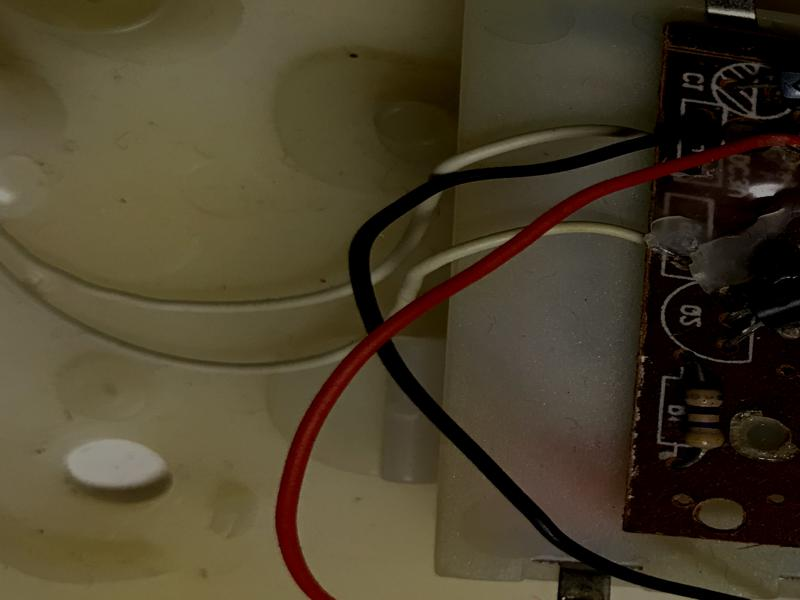Resistor: (683, 376, 728, 456)
